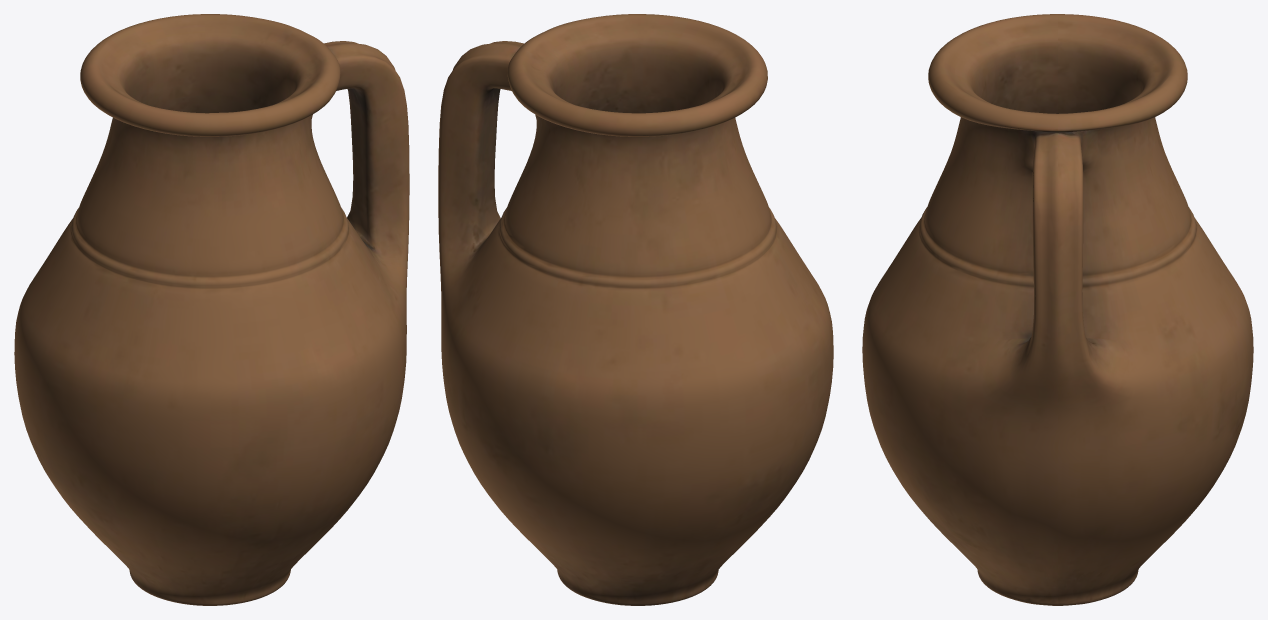
File: 静物_瓶罐_jarra_romana__roman_jar_opt.glb
3 views of the same model, side by side, from view 1: azimuth 30°, elevation 25°; view 2: azimuth 150°, elevation 25°; view 3: azimuth 270°, elevation 25° (orthographic).
Visible parts, largest first — view 1: Object_2; view 2: Object_2; view 3: Object_2.
Boxes of the visible parts, bbox=[...] form: Object_2: bbox=[14, 14, 409, 605]; Object_2: bbox=[438, 14, 833, 605]; Object_2: bbox=[862, 14, 1253, 605].
Size of the model in its own units: 0.1327 by 0.1771 by 0.1234.
1 material, 1 textured.
